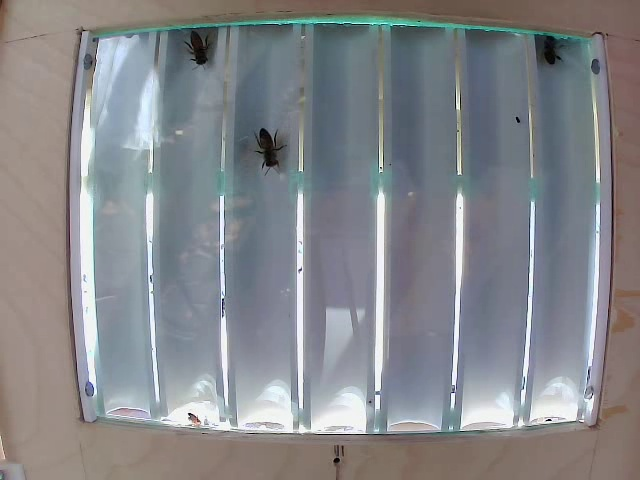bee: (174, 24, 222, 79), (249, 117, 286, 175)
